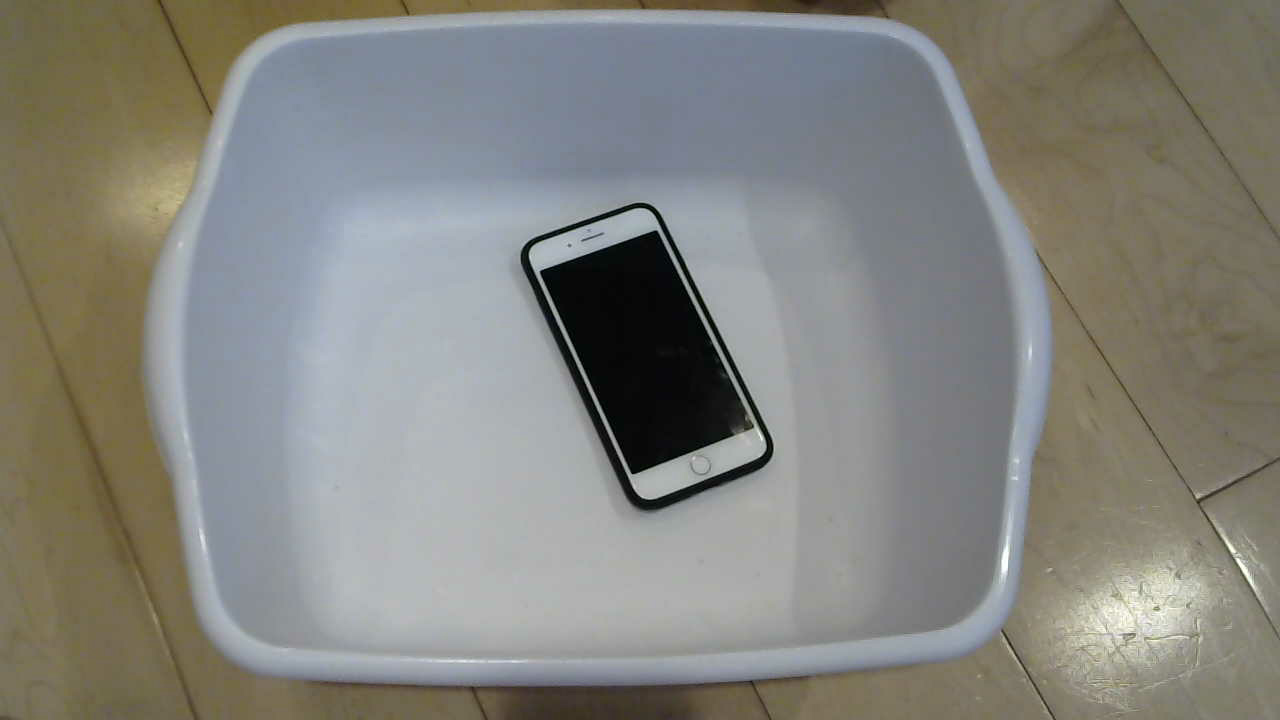phone: (485, 194, 780, 534)
